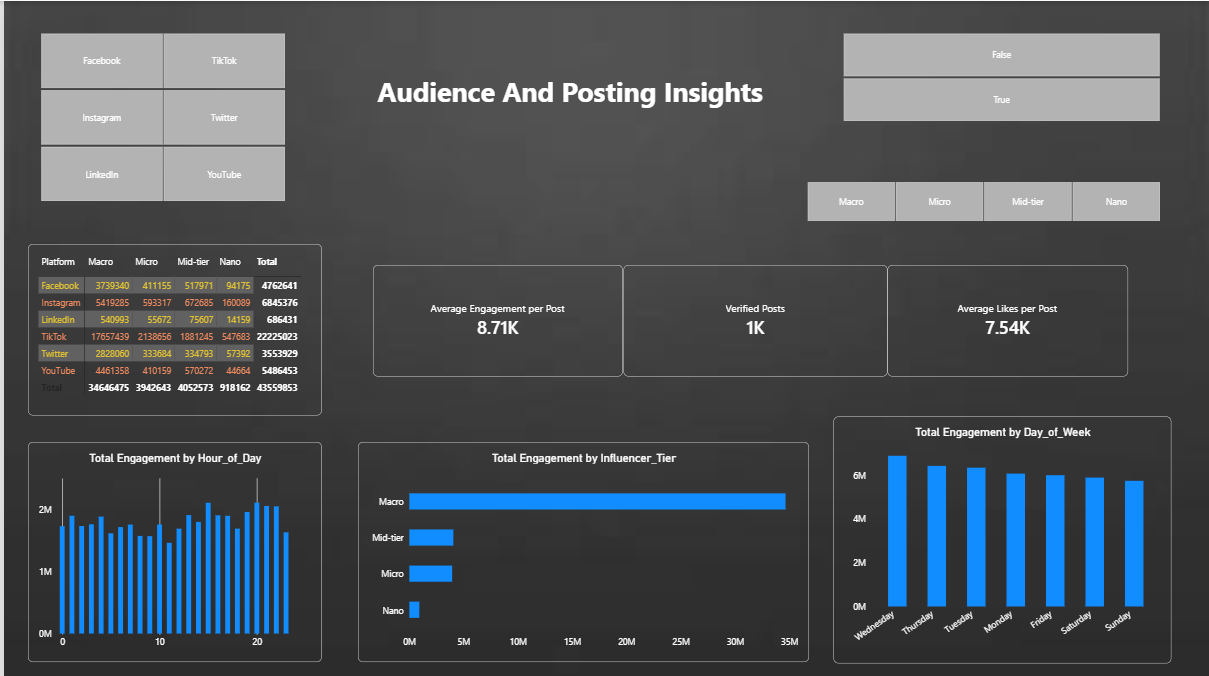

The dashboard page shown, as its layout file describes it:
{"tool":"powerbi","page":{"name":"Page 3","canvas":[1920,1080],"ordinal":2},"visuals":[{"type":"cardVisual","fields":{"Data":["social_media.Average Engagement per Post"]},"box":[587.5,420,397.5,177.5],"z":0},{"type":"cardVisual","fields":{"Data":["social_media.Average Likes per Post"]},"box":[1405,420,382.5,177.5],"z":1},{"type":"cardVisual","fields":{"Data":["social_media.Verified Posts"]},"box":[985,420,420,177.5],"z":2},{"type":"clusteredColumnChart","fields":{"Category":["social_media.Hour_of_Day"],"Y":["social_media.Total Engagement"]},"box":[37.5,702.5,467.5,350],"z":3},{"type":"clusteredColumnChart","fields":{"Category":["social_media.Day_of_Week"],"Y":["social_media.Total Engagement"]},"box":[1320,660,537.5,392.5],"z":4},{"type":"clusteredBarChart","fields":{"Category":["social_media.Influencer_Tier"],"Y":["social_media.Total Engagement"]},"box":[562.5,702.5,717.5,350],"z":5},{"type":"pivotTable","fields":{"Columns":["social_media.Influencer_Tier"],"Rows":["social_media.Platform"],"Values":["social_media.Total Engagement"]},"box":[37.5,387.5,467.5,272.5],"z":6},{"type":"slicer","fields":{"Values":["social_media.Is_Verified"]},"box":[1315,50,542.5,142.5],"z":7},{"type":"slicer","fields":{"Values":["social_media.Platform"]},"box":[37.5,50,427.5,270],"z":8},{"type":"slicer","fields":{"Values":["social_media.Influencer_Tier"]},"box":[1257.5,287.5,600,65],"z":9},{"type":"textbox","box":[610,115,617.5,110],"z":10}]}

Visuals, with their boxes in screenshot pixels (x1, y1, x2, y2), scaled from the page's 1920x1080 canvas onto the 1209x676 screenshot:
cardVisual - social_media.Average Engagement per Post: left=370, top=263, right=620, bottom=374
cardVisual - social_media.Average Likes per Post: left=885, top=263, right=1126, bottom=374
cardVisual - social_media.Verified Posts: left=620, top=263, right=885, bottom=374
clusteredColumnChart - social_media.Hour_of_Day x social_media.Total Engagement: left=24, top=440, right=318, bottom=659
clusteredColumnChart - social_media.Day_of_Week x social_media.Total Engagement: left=831, top=413, right=1170, bottom=659
clusteredBarChart - social_media.Influencer_Tier x social_media.Total Engagement: left=354, top=440, right=806, bottom=659
pivotTable - social_media.Influencer_Tier x social_media.Platform: left=24, top=243, right=318, bottom=413
slicer - social_media.Is_Verified: left=828, top=31, right=1170, bottom=120
slicer - social_media.Platform: left=24, top=31, right=293, bottom=200
slicer - social_media.Influencer_Tier: left=792, top=180, right=1170, bottom=221
textbox: left=384, top=72, right=773, bottom=141
